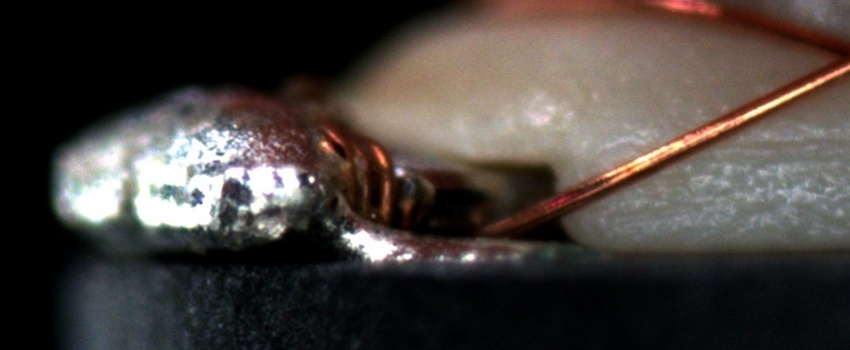CL: (804, 27, 850, 88)
DL: (621, 109, 849, 173)
TE: (308, 117, 398, 233)
